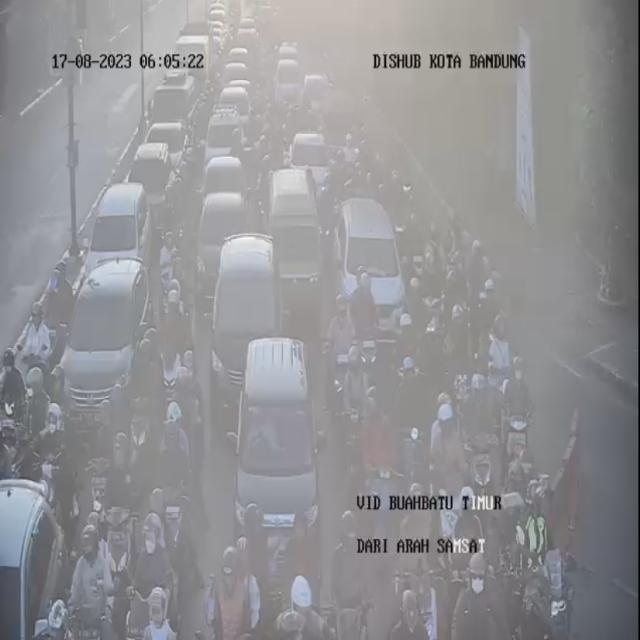cars: (234, 327, 317, 537), (60, 257, 153, 427), (210, 228, 282, 402), (0, 477, 68, 639), (266, 165, 328, 328), (337, 196, 403, 342), (86, 180, 150, 286), (194, 188, 244, 284), (132, 140, 178, 243), (200, 153, 250, 214), (287, 126, 333, 190), (268, 33, 308, 106), (216, 86, 259, 151), (205, 107, 242, 169), (148, 121, 188, 175), (219, 47, 256, 95), (207, 0, 231, 35)
motorcycle: (505, 477, 569, 640), (356, 382, 402, 532), (393, 483, 435, 638), (132, 512, 177, 638), (392, 351, 428, 508), (330, 512, 373, 640), (338, 344, 369, 517), (456, 377, 497, 504), (199, 536, 249, 640), (93, 462, 132, 595), (75, 513, 113, 635), (503, 357, 536, 494), (432, 391, 465, 527), (450, 556, 500, 640), (164, 281, 196, 412), (444, 484, 484, 585), (269, 577, 329, 640), (16, 301, 48, 412), (162, 402, 194, 513), (0, 340, 26, 468), (348, 270, 379, 375), (42, 404, 72, 504), (45, 269, 75, 362), (329, 299, 356, 402), (485, 315, 513, 405), (134, 591, 182, 640), (420, 313, 444, 404), (174, 344, 201, 419), (478, 276, 502, 358), (446, 308, 472, 382), (392, 309, 418, 381), (73, 596, 115, 640), (157, 227, 182, 294), (38, 599, 78, 640), (467, 232, 490, 296), (56, 598, 86, 640)
